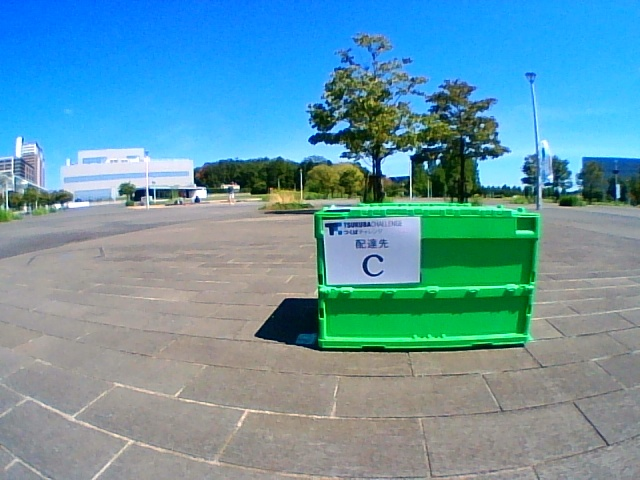green_box: (314, 202, 539, 349)
tag_c: (331, 220, 416, 284)
